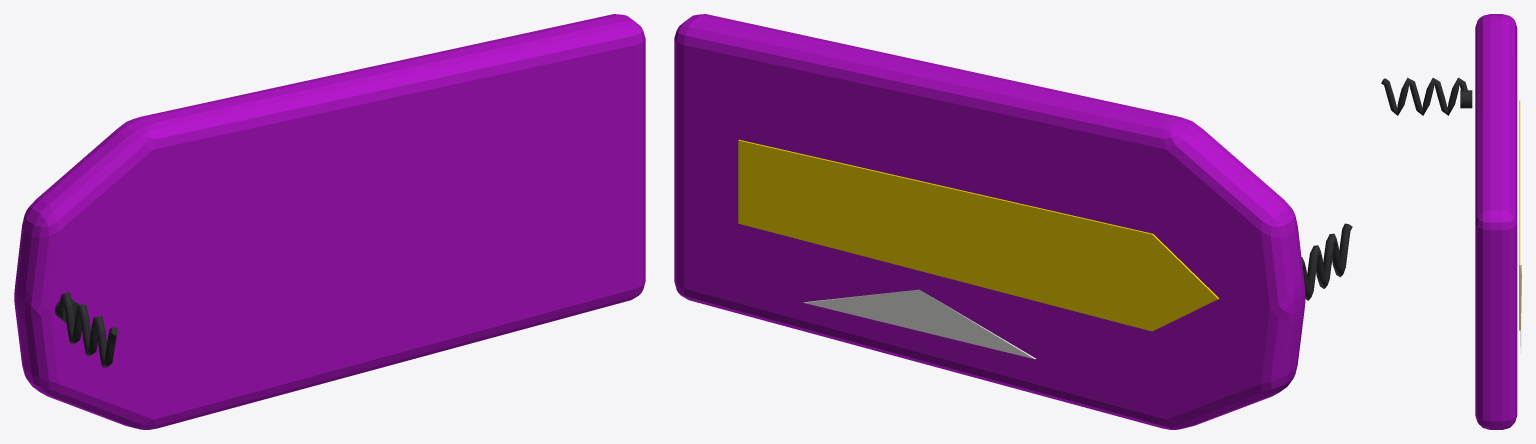
The model's file is boogie_board.fbx.
3 renders of one model, left to right at view 1: azimuth 30°, elevation 25°; view 2: azimuth 150°, elevation 25°; view 3: azimuth 270°, elevation 25°, orthographic. The views are drawn at different scales.
Parts seen in each view (by area): view 1: Boogie Board; view 2: Boogie Board; view 3: Boogie Board.
Part boxes in pixels (bbox=[...]): Boogie Board: bbox=[14, 14, 645, 429]; Boogie Board: bbox=[674, 14, 1352, 429]; Boogie Board: bbox=[1381, 14, 1521, 429].
Size of the model in its own units: 1.87 by 0.8774 by 0.4678.
